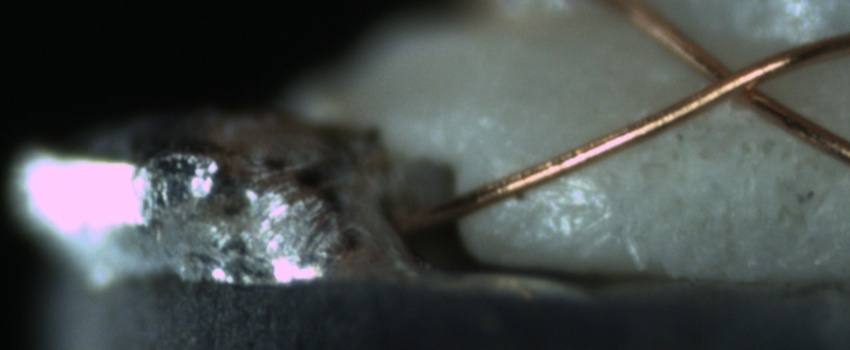CL: (684, 49, 787, 114)
